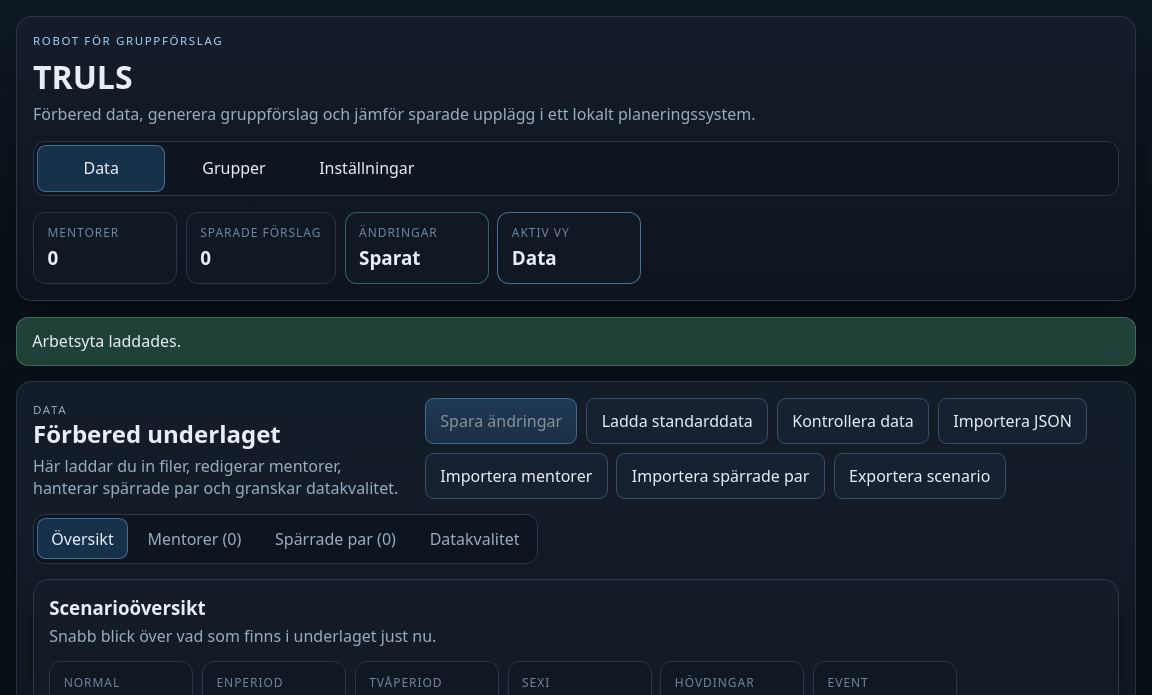
Test: App › shows a clear solve error when the solve request fails
Expected: the text "Arbetsyta laddades." is shown, [16,317,1136,366]
What coordinates should you click on to do the following:
click the button "Grupper"
I would click on:
 (234, 168)
Its box is [170,145,298,192].
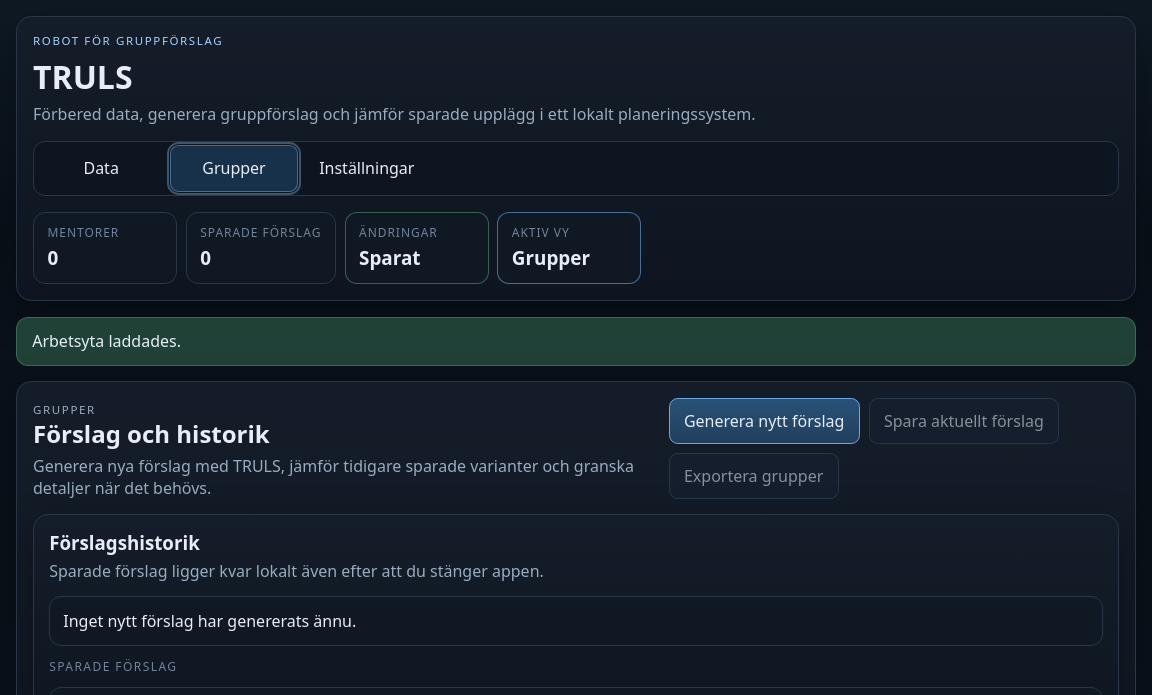
What coordinates should you click on to do the following:
click the button "Generera nytt förslag"
I would click on:
 (764, 421)
Its box is [668,398,860,444].
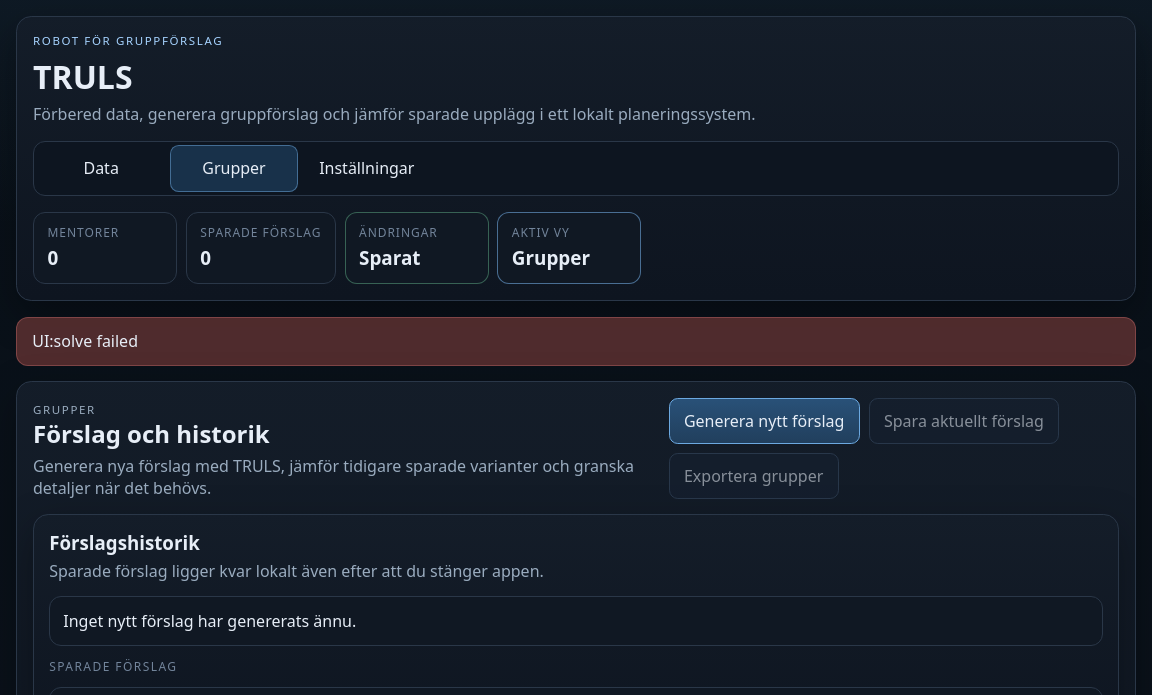
Now the text "UI:solve failed" is shown, box [16,317,1136,366]
